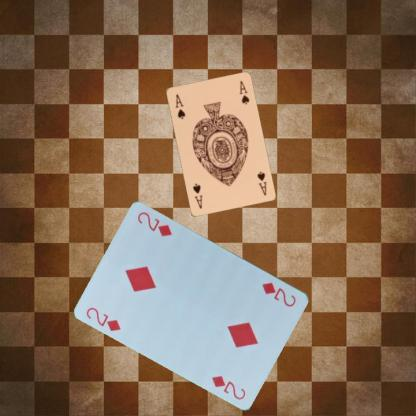2d: (84, 304, 122, 333), (260, 280, 298, 308)
As: (172, 91, 186, 120), (254, 169, 268, 196)
